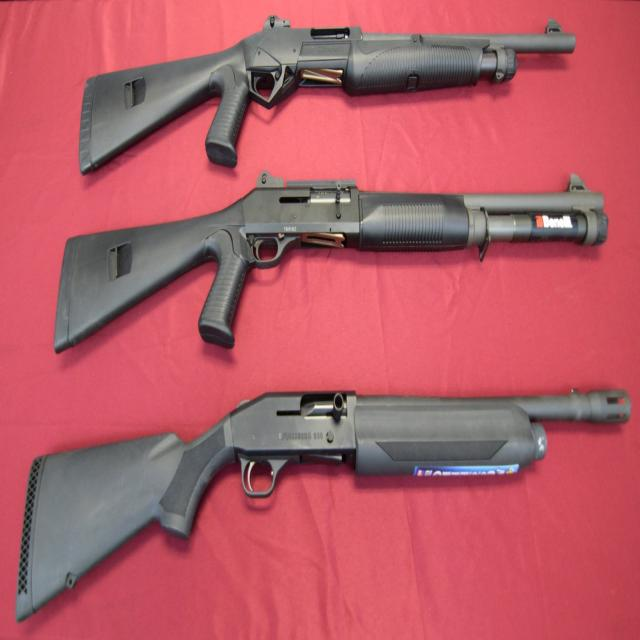ShotGun: (16, 389, 626, 622), (53, 172, 609, 354), (78, 15, 581, 179)
